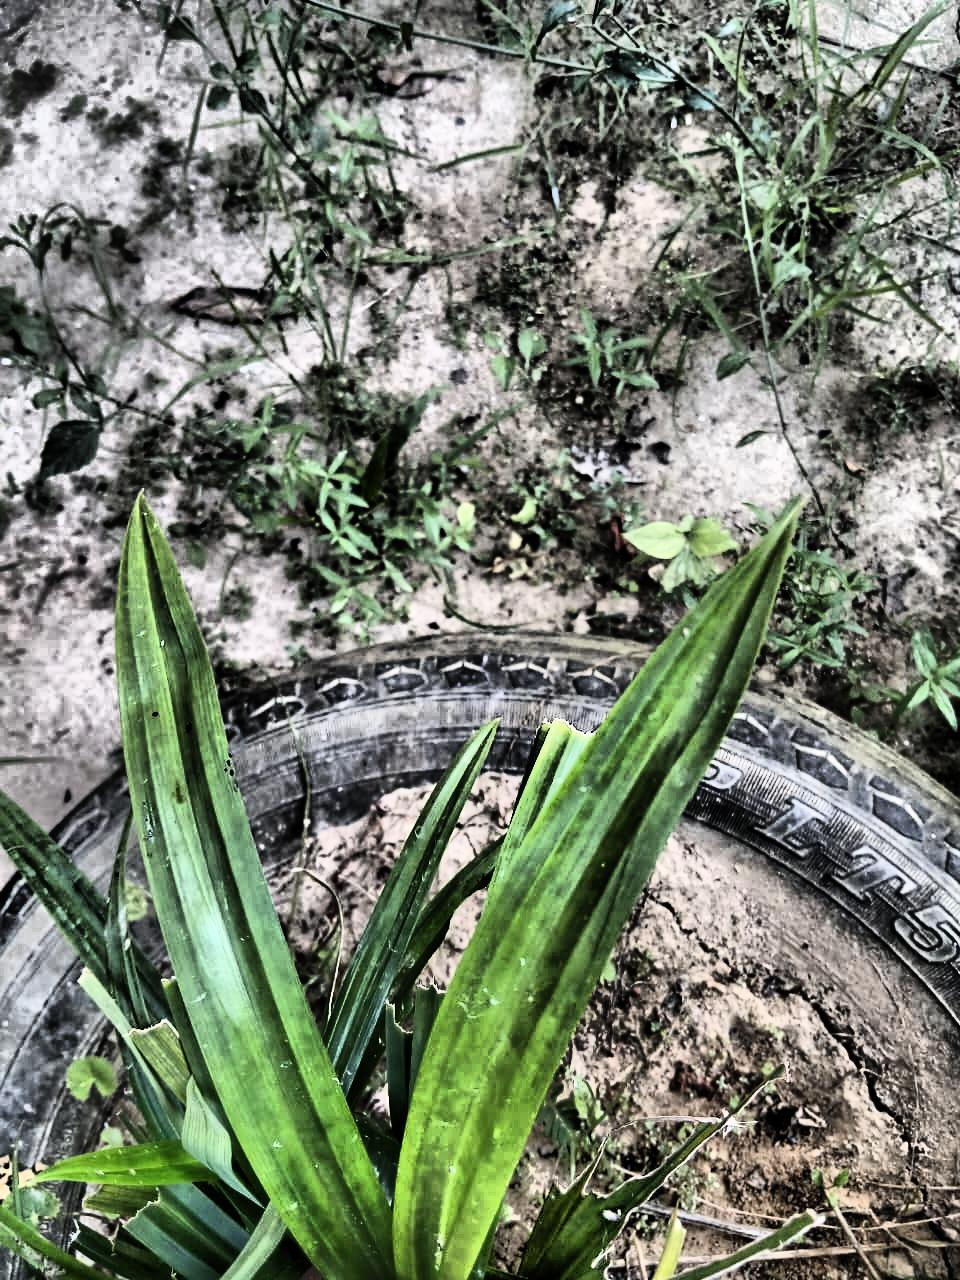daun pandan: (0, 496, 799, 1279)
